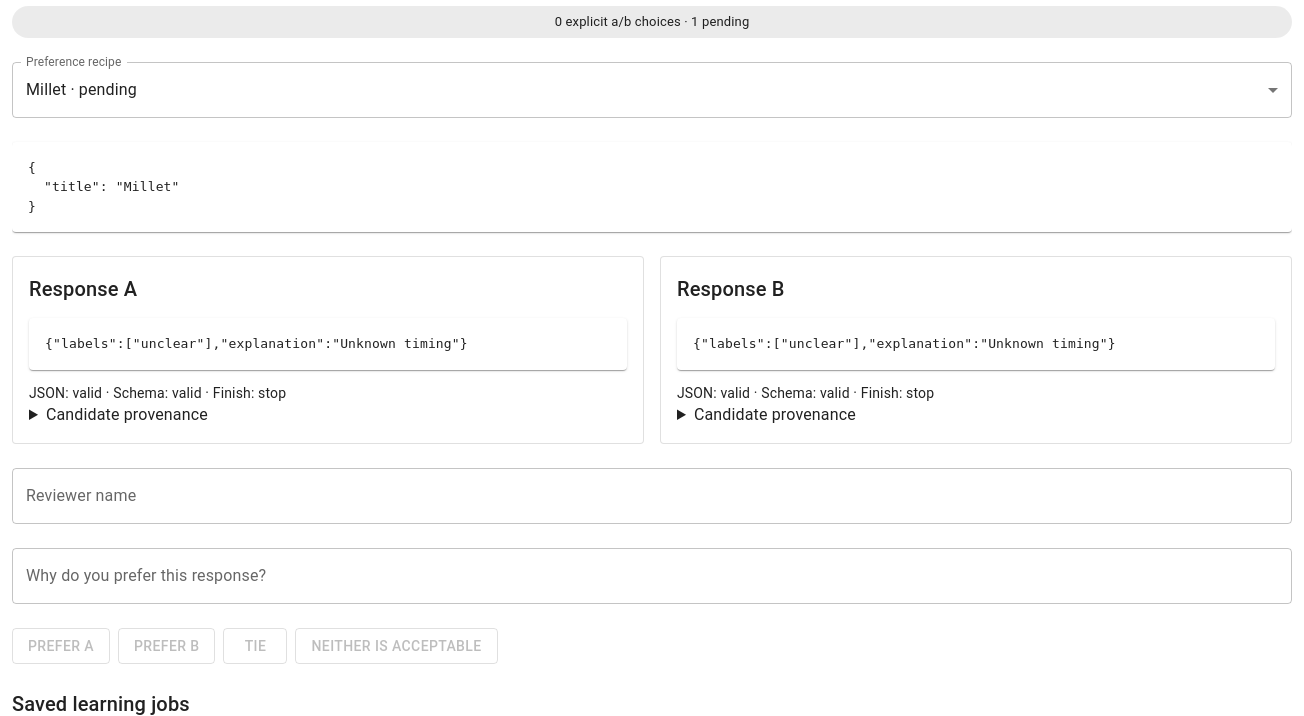
preference has no default choice; explicit tie is stored and DPO stays disabled
(page scrolled)
Expected: the heading "Response A" is shown, [29, 277, 137, 301]
Type "Reviewer" into the field labelled "Reviewer name" at [652, 496], box [12, 468, 1292, 524]
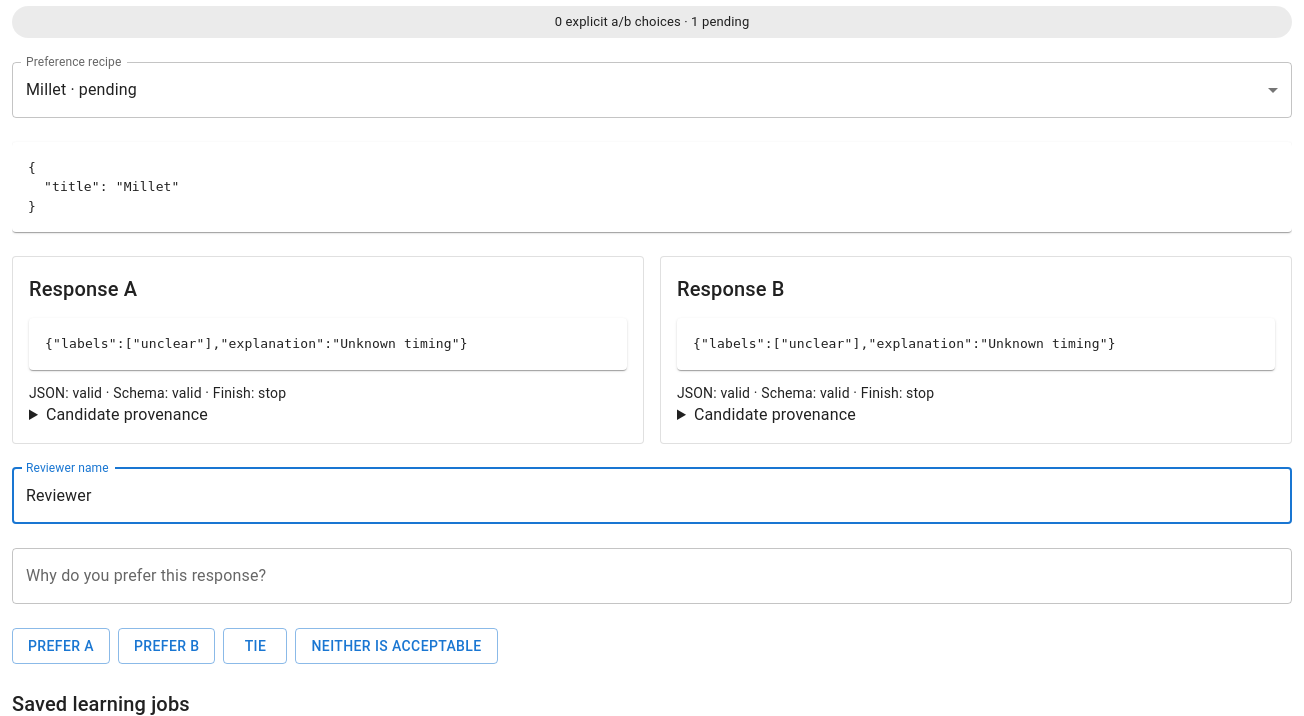
Click the button "Tie" at [256, 646], box [224, 628, 288, 664]
(page scrolled)
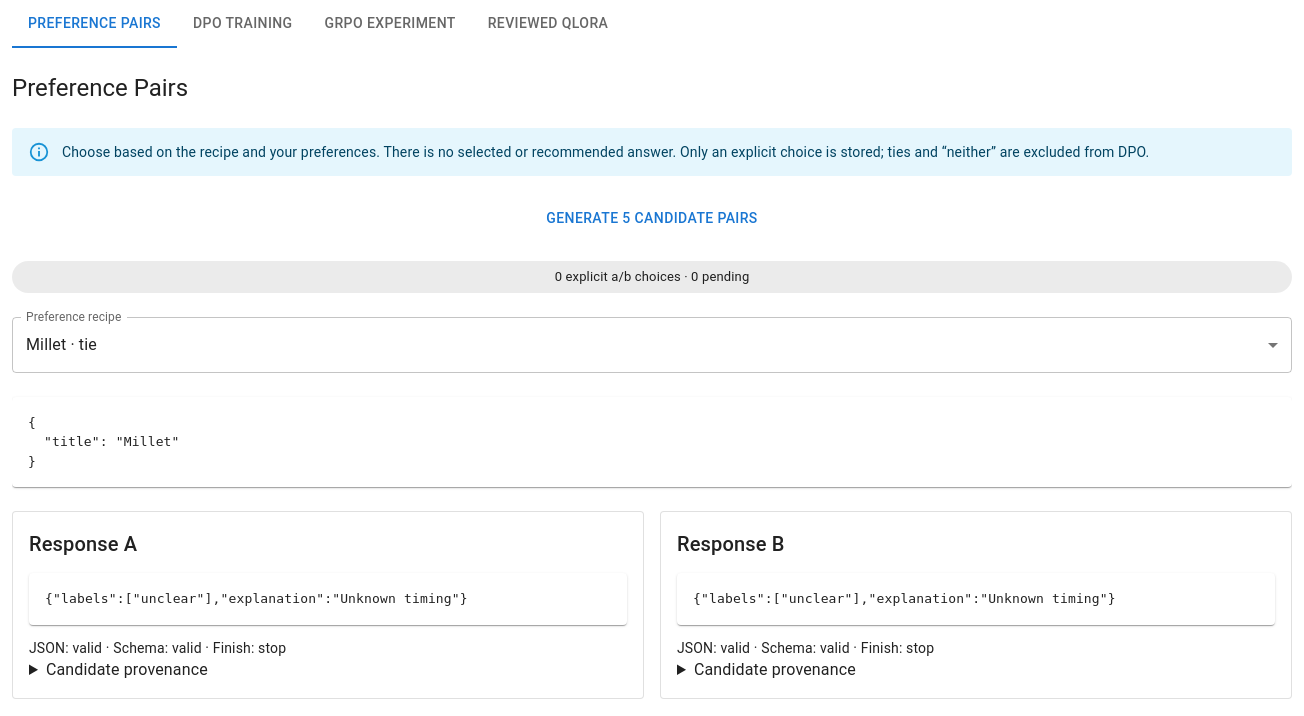
Click the tab "DPO Training" at [243, 24], box [177, 0, 308, 48]
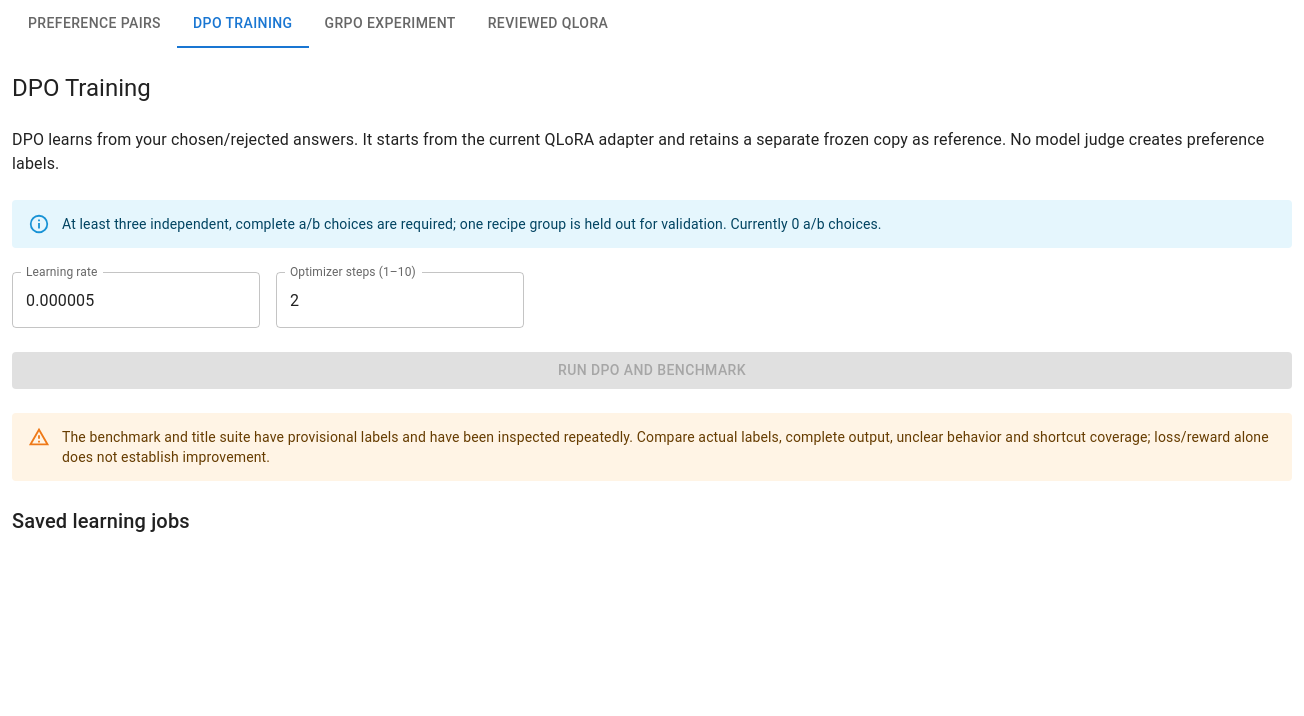
Expected: the button "Run DPO and benchmark" is disabled, [12, 352, 1292, 388]
